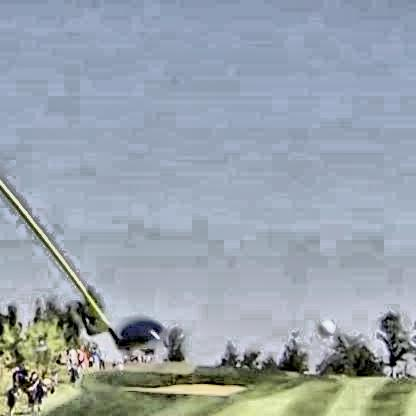golfball: (315, 315, 332, 335)
